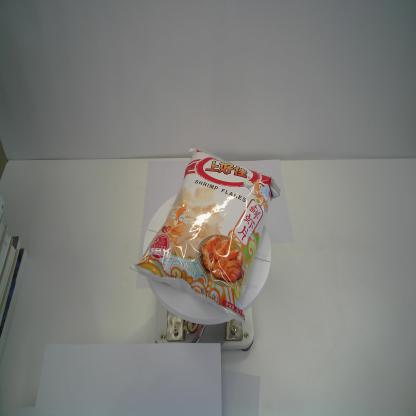Puffed Food: (124, 146, 283, 326)
